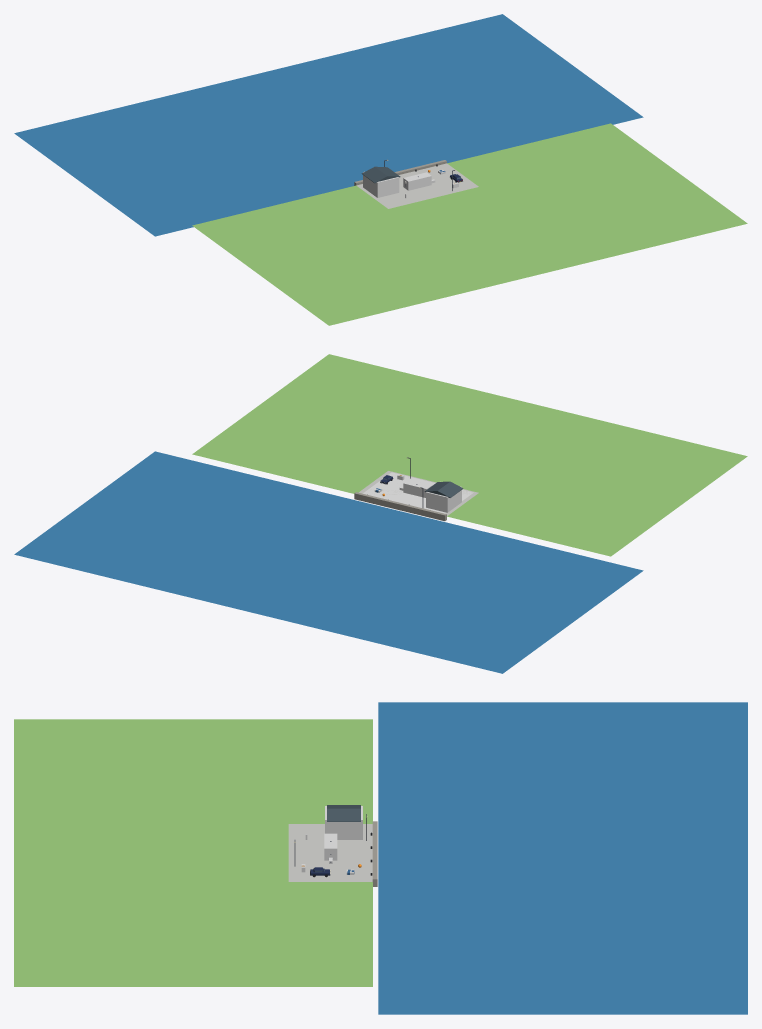
Rendered from job5.glb.
3 views of the same model, one above another, from view 1: azimuth 30°, elevation 25°; view 2: azimuth 150°, elevation 25°; view 3: azimuth 270°, elevation 25° (orthographic). The views are drawn at different scales.
Visible parts, largest first — view 1: j5_bg, j5_col_4; view 2: j5_bg, j5_bounds, j5_col_4; view 3: j5_bg, j5_col_4.
Part boxes in pixels (x1,y1,x2,y2): j5_bg: (14, 14, 747, 325); j5_col_4: (363, 171, 399, 197); j5_bg: (14, 354, 747, 673); j5_bounds: (363, 472, 473, 513); j5_col_4: (426, 481, 461, 512); j5_bg: (14, 702, 747, 1014); j5_col_4: (325, 806, 362, 839).
Bounding box in the file's own units: 140 × 6.68 × 139.
